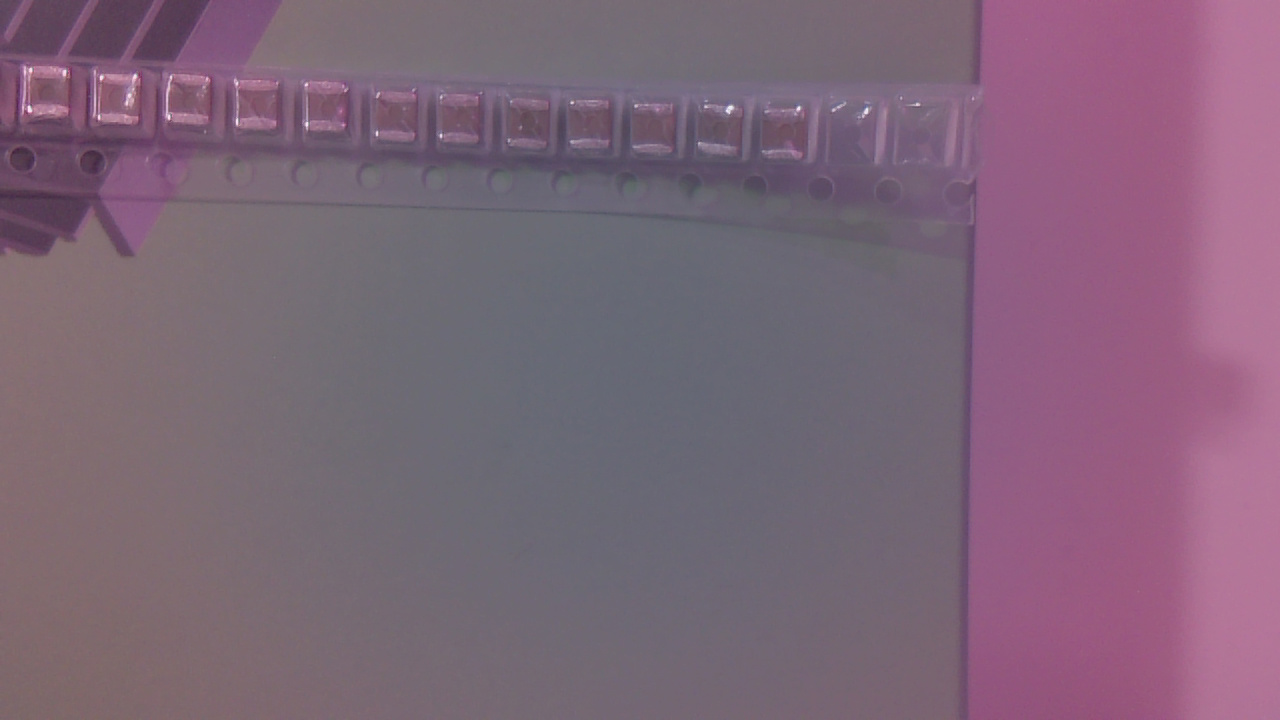Condensator: (28, 71, 82, 125), (702, 106, 749, 164), (168, 78, 217, 132), (569, 102, 617, 157), (376, 92, 424, 147), (507, 103, 559, 153), (635, 106, 683, 160), (764, 110, 811, 165), (308, 84, 354, 140), (101, 75, 149, 128), (239, 84, 287, 136), (441, 96, 485, 150)
